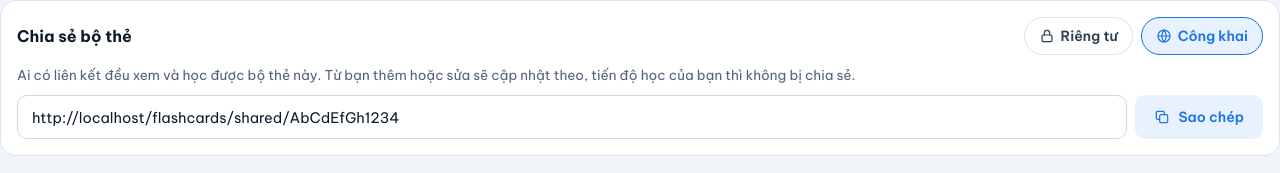
Test: DeckShare (the owner's switch) › copies the link
Click the button "Sao chép": (1199, 117) [1135, 95, 1263, 139]
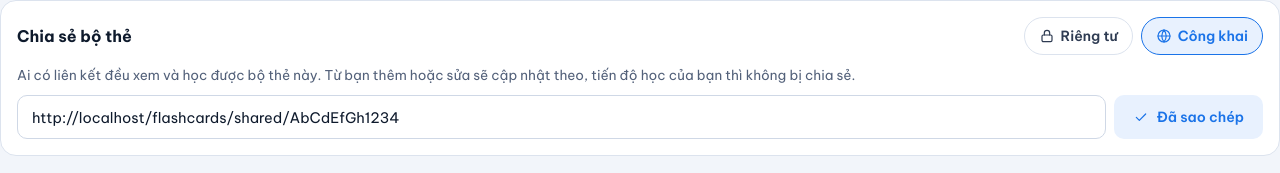
Check: the button "Đã sao chép" is shown, box [1114, 95, 1263, 139]
